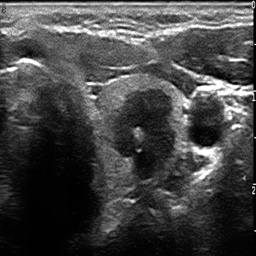mass: (105, 82, 178, 178)
